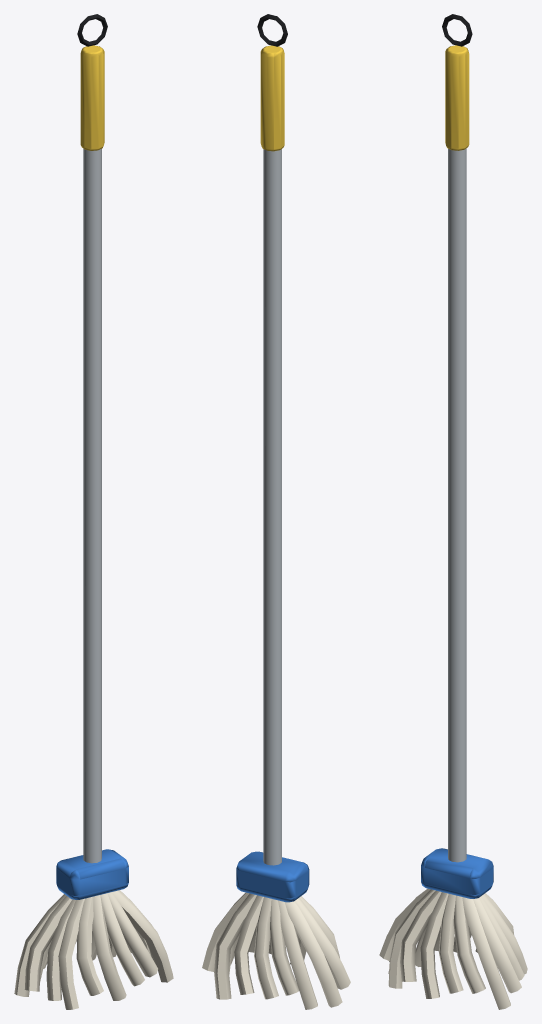
File: mop.glb
The picture shows the model from 3 angles, left to right: view 1: azimuth 30°, elevation 25°; view 2: azimuth 150°, elevation 25°; view 3: azimuth 330°, elevation 25°; orthographic projection.
Parts seen in each view (by area): view 1: MopMesh, Handle; view 2: MopMesh, Handle; view 3: MopMesh, Handle.
Boxes of the visible parts, <box> form: MopMesh: <box>14,14,173,1009</box>; Handle: <box>83,148,101,863</box>; MopMesh: <box>202,14,350,1009</box>; Handle: <box>263,149,281,865</box>; MopMesh: <box>379,14,527,1009</box>; Handle: <box>448,148,466,862</box>.
Bounding box in the file's own units: 0.2381 × 1.58 × 0.1763.
